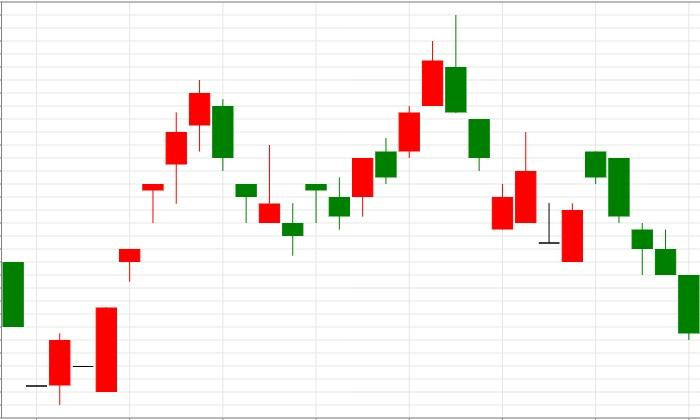three_black_crows_fall: (561, 151, 677, 276)
